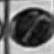correct: (10, 4, 54, 48)
